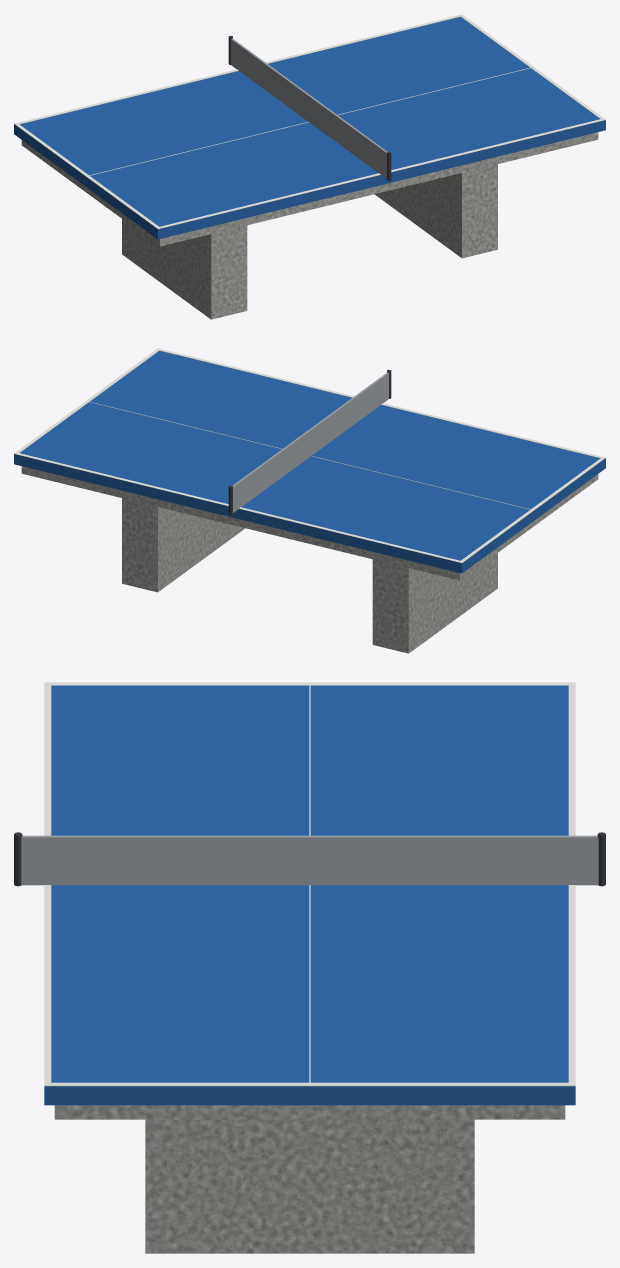
The picture shows the model from 3 angles, top to bottom: view 1: azimuth 30°, elevation 25°; view 2: azimuth 150°, elevation 25°; view 3: azimuth 270°, elevation 25°; orthographic projection. The views are drawn at different scales.
Parts seen in each view (by area): view 1: benchWidth=0.3;benches=false;frameMaterial=steel_dark;height (×4); view 2: benchWidth=0.3;benches=false;frameMaterial=steel_dark;height (×4); view 3: benchWidth=0.3;benches=false;frameMaterial=steel_dark;height (×5).
Boxes of the visible parts, x1=… form: benchWidth=0.3;benches=false;frameMaterial=steel_dark;height (×4): x1=14, y1=14, x2=605, y2=319; benchWidth=0.3;benches=false;frameMaterial=steel_dark;height (×4): x1=14, y1=348, x2=605, y2=653; benchWidth=0.3;benches=false;frameMaterial=steel_dark;height (×5): x1=14, y1=682, x2=605, y2=1253.
Bounding box in the file's own units: 2.74 × 1.7 × 0.92.
Materials: 5 (1 with a texture image).
